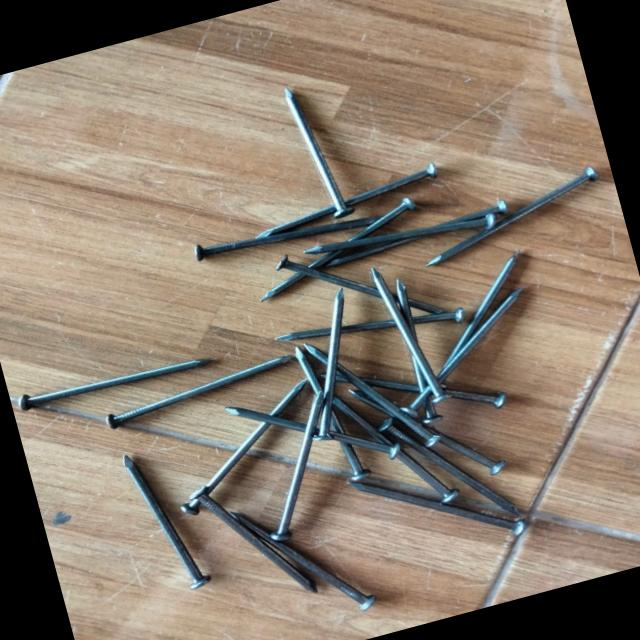3x8 nail: (208, 378, 374, 564), (342, 252, 462, 442), (106, 434, 222, 614), (8, 340, 222, 424), (268, 69, 362, 233)
